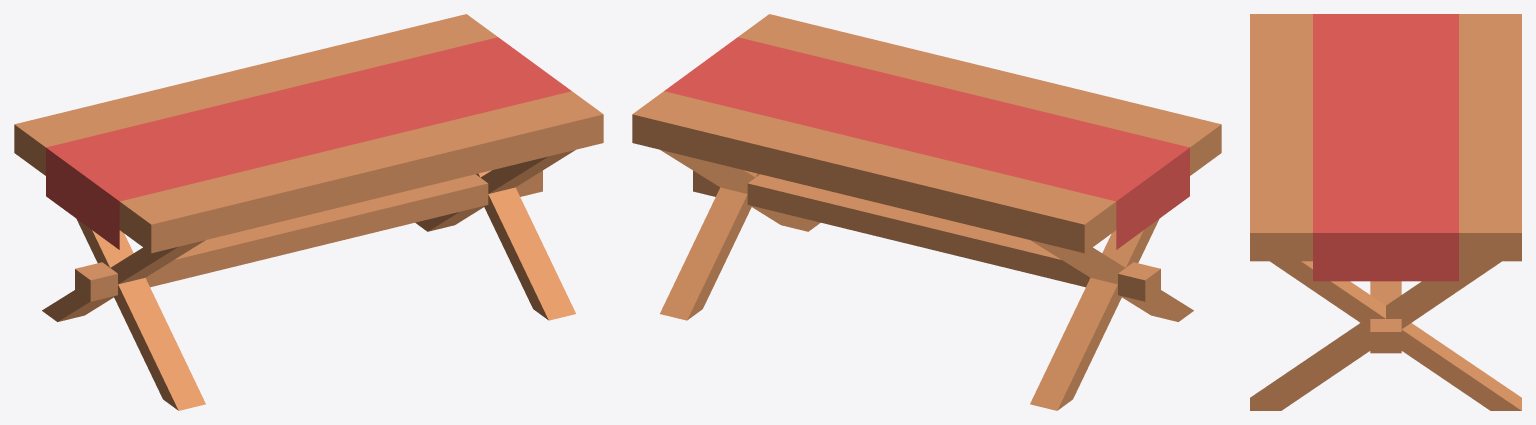
File: tableCrossCloth.obj
The picture shows the model from 3 angles, left to right: view 1: azimuth 30°, elevation 25°; view 2: azimuth 150°, elevation 25°; view 3: azimuth 270°, elevation 25°; orthographic projection.
Visible parts, largest first — view 1: tableCrossCloth; view 2: tableCrossCloth; view 3: tableCrossCloth.
Part boxes in pixels (bbox=[...]): tableCrossCloth: bbox=[14, 14, 603, 410]; tableCrossCloth: bbox=[632, 14, 1221, 410]; tableCrossCloth: bbox=[1250, 14, 1521, 410].
Bounding box in the file's own units: 0.8521 × 0.3474 × 0.4474.
